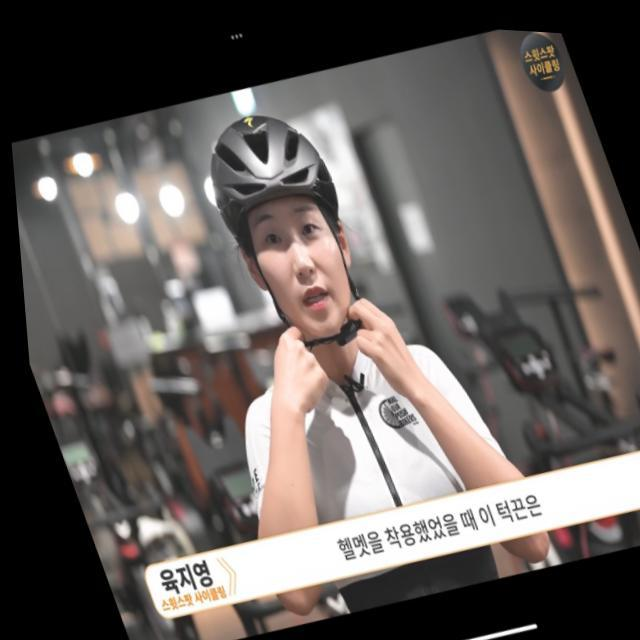Helmet: (200, 98, 381, 352)
